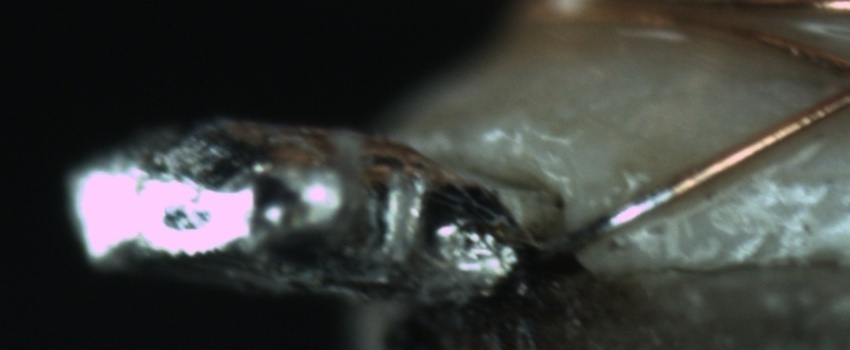CL: (809, 43, 850, 124)
DL: (764, 136, 850, 206)
TS: (540, 186, 680, 253)
